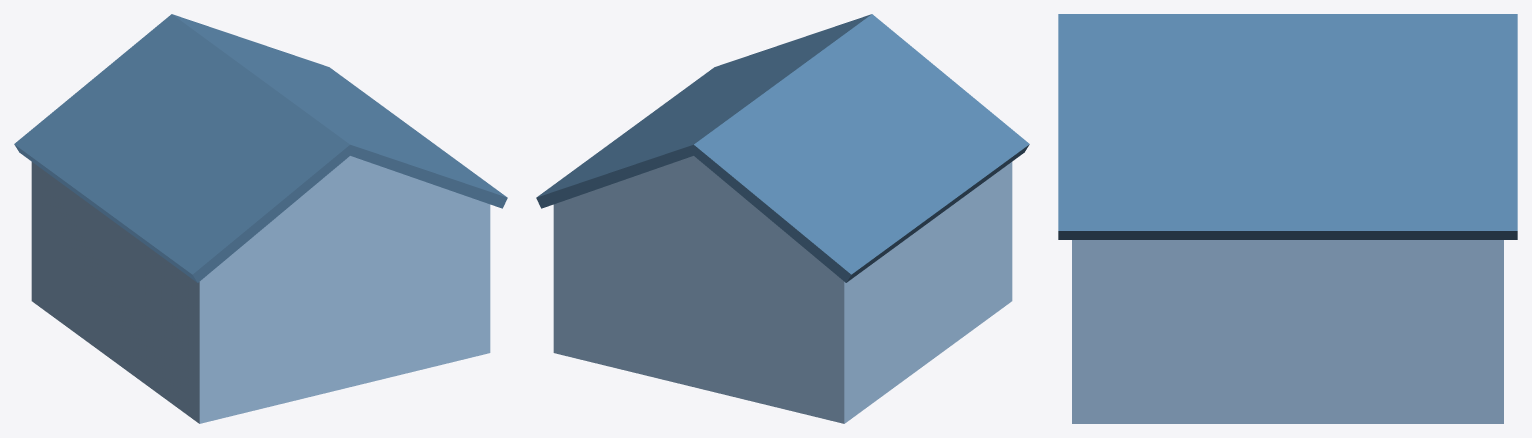
Rendered from Map-House-T-Lv1-B.fbx.
3 views of the same model, side by side, from view 1: azimuth 30°, elevation 25°; view 2: azimuth 150°, elevation 25°; view 3: azimuth 270°, elevation 25° (orthographic). The views are drawn at different scales.
Visible parts, largest first — view 1: Map-House-T-Lv1-B; view 2: Map-House-T-Lv1-B; view 3: Map-House-T-Lv1-B.
Boxes of the visible parts, x1,y1,x2,y2 form: Map-House-T-Lv1-B: [14, 14, 507, 423]; Map-House-T-Lv1-B: [536, 14, 1029, 423]; Map-House-T-Lv1-B: [1058, 14, 1517, 423].
Bounding box in the file's own units: 1.3 × 0.975 × 1.27.
